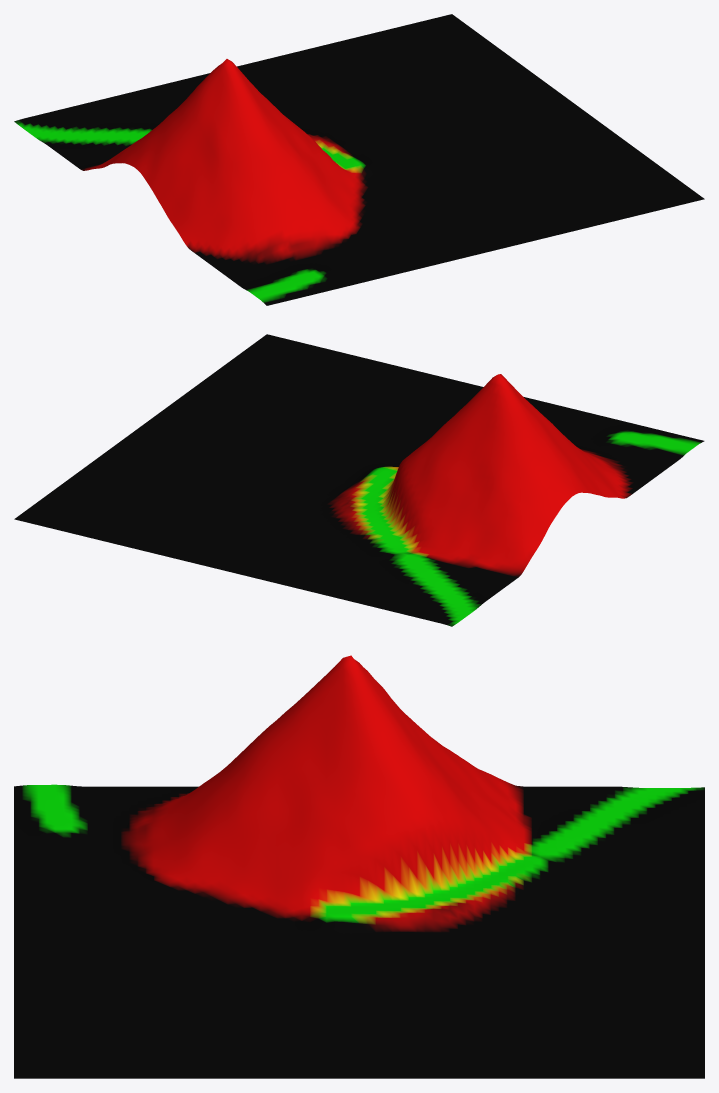
Rendered from SM_FutureCity_Terrain_1_3.fbx.
3 views of the same model, one above another, from view 1: azimuth 30°, elevation 25°; view 2: azimuth 150°, elevation 25°; view 3: azimuth 270°, elevation 25° (orthographic). The views are drawn at different scales.
Parts seen in each view (by area): view 1: SM_FutureCity_Terrain_1_3; view 2: SM_FutureCity_Terrain_1_3; view 3: SM_FutureCity_Terrain_1_3.
Boxes of the visible parts, bbox=[...] form: SM_FutureCity_Terrain_1_3: bbox=[14, 14, 704, 305]; SM_FutureCity_Terrain_1_3: bbox=[14, 334, 704, 626]; SM_FutureCity_Terrain_1_3: bbox=[14, 655, 704, 1078].
Bounding box in the file's own units: 50400 × 15144 × 50400.
